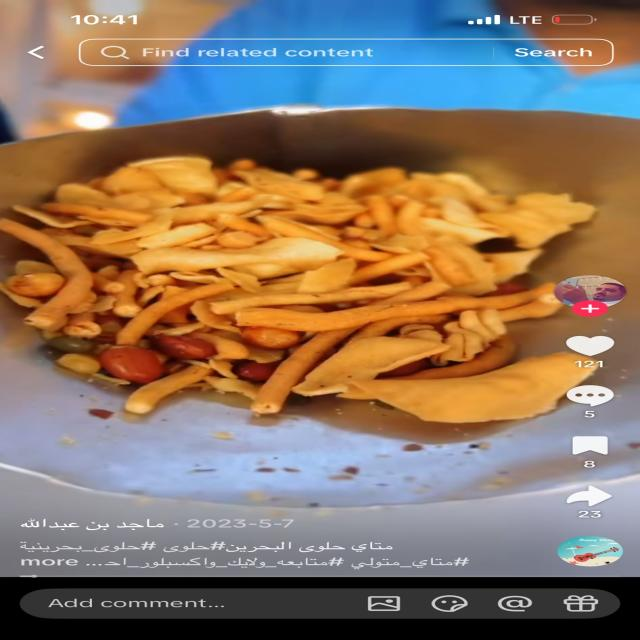Mattai: (4, 142, 604, 426)
